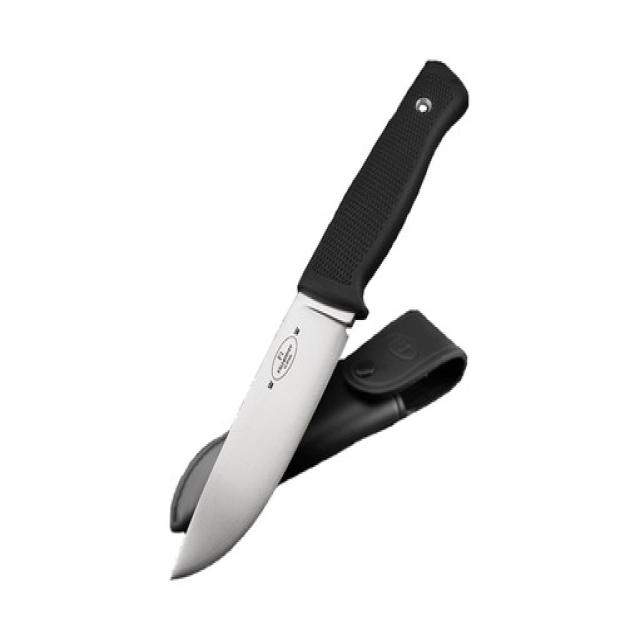knife: (172, 43, 475, 592)
